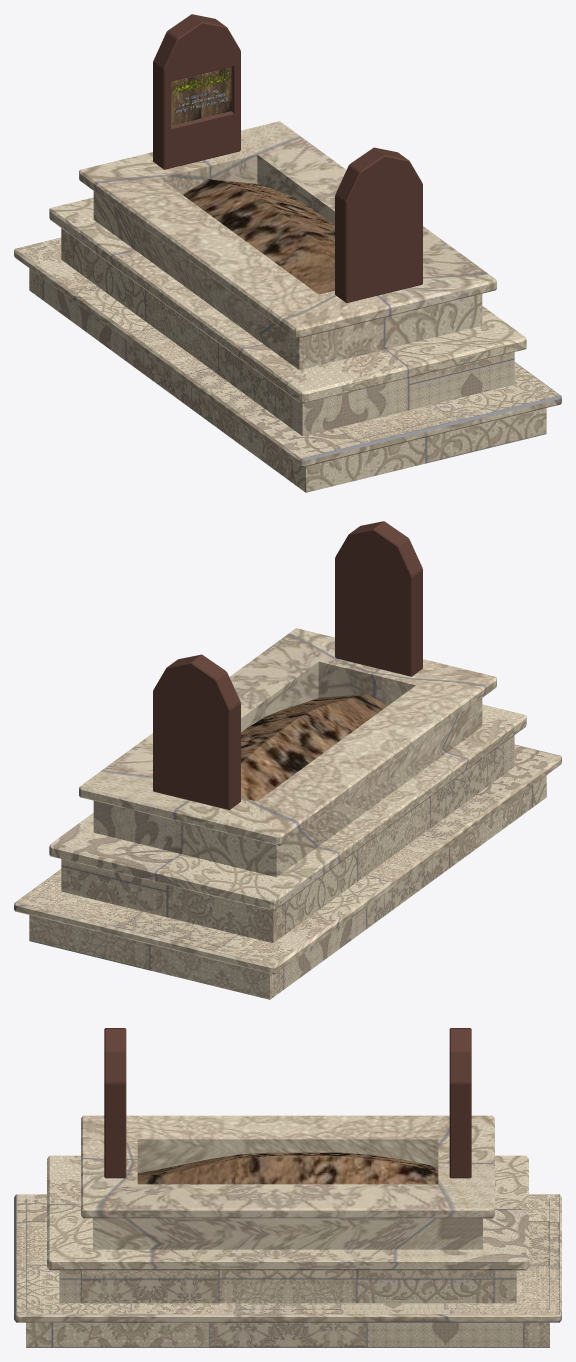
Rendered from kuburan_islam.obj.
3 renders of one model, top to bottom at view 1: azimuth 30°, elevation 25°; view 2: azimuth 150°, elevation 25°; view 3: azimuth 270°, elevation 25°, orthographic. The views are drawn at different scales.
Visible parts, largest first — view 1: kuburan_islam_Cube; view 2: kuburan_islam_Cube; view 3: kuburan_islam_Cube.
Boxes of the visible parts, bbox=[...] form: kuburan_islam_Cube: bbox=[14, 14, 561, 492]; kuburan_islam_Cube: bbox=[14, 521, 561, 999]; kuburan_islam_Cube: bbox=[14, 1028, 561, 1347].
Bounding box in the file's own units: 4.41 × 4.45 × 8.4.
